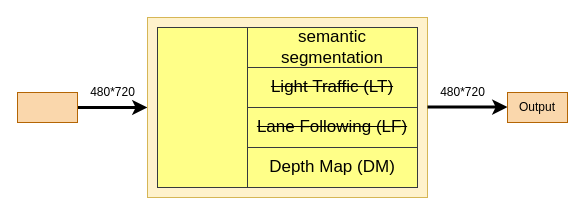
Image size: 585x215. Some labels were removed from this diagram. Each missing label, with the box of its shape:
BackBone regnet: (156, 26, 248, 188)
Input: (16, 92, 78, 122)
